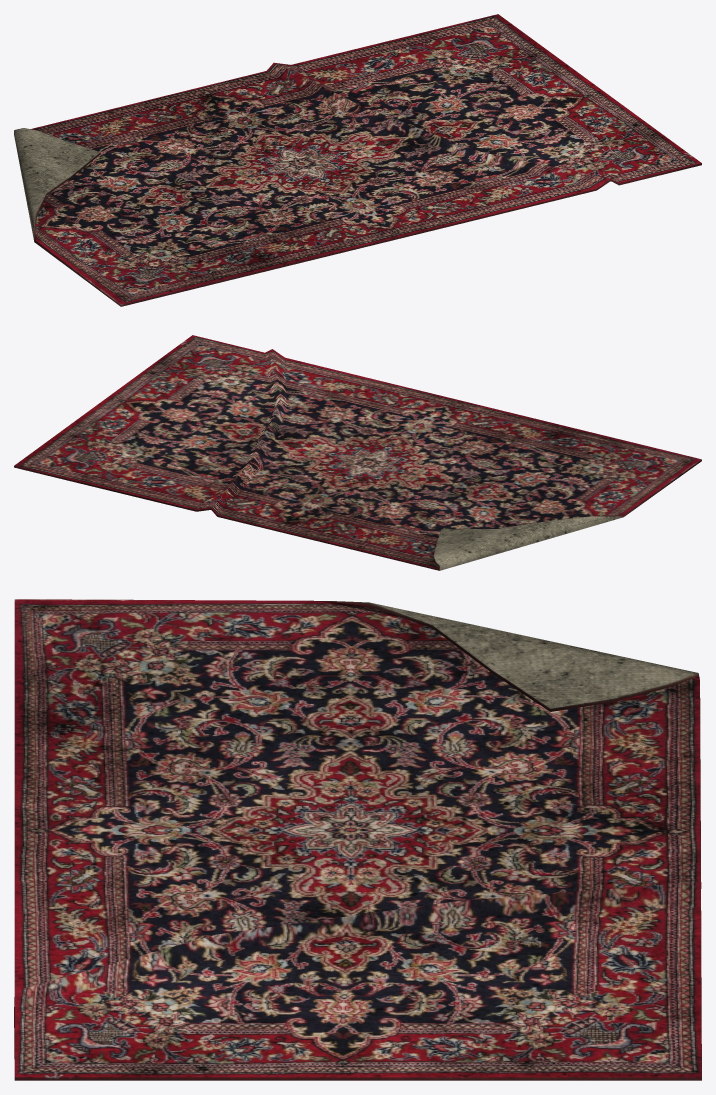
File: Carpet_3.fbx
The picture shows the model from 3 angles, top to bottom: view 1: azimuth 30°, elevation 25°; view 2: azimuth 150°, elevation 25°; view 3: azimuth 270°, elevation 25°; orthographic projection. The views are drawn at different scales.
Parts seen in each view (by area): view 1: Carpet_Sketchfab_SM_Carpet_03_LOD0; view 2: Carpet_Sketchfab_SM_Carpet_03_LOD0; view 3: Carpet_Sketchfab_SM_Carpet_03_LOD0.
Boxes of the visible parts, <box> form: Carpet_Sketchfab_SM_Carpet_03_LOD0: <box>14,14,701,306</box>; Carpet_Sketchfab_SM_Carpet_03_LOD0: <box>14,335,701,570</box>; Carpet_Sketchfab_SM_Carpet_03_LOD0: <box>14,599,701,1080</box>.
Bounding box in the file's own units: 889 × 15.55 × 540.
